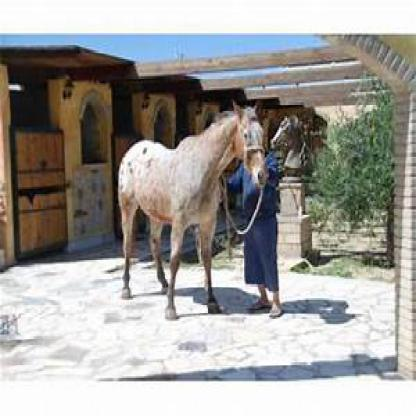horse: (116, 107, 270, 320)
